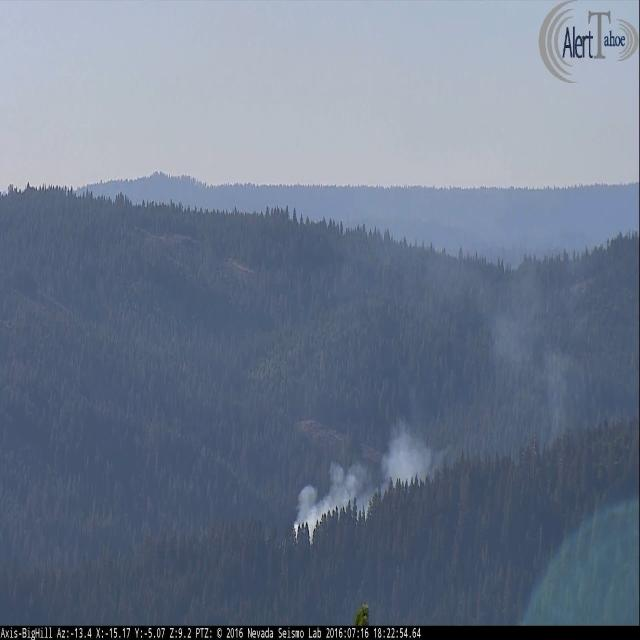smoke: (293, 433, 437, 552)
